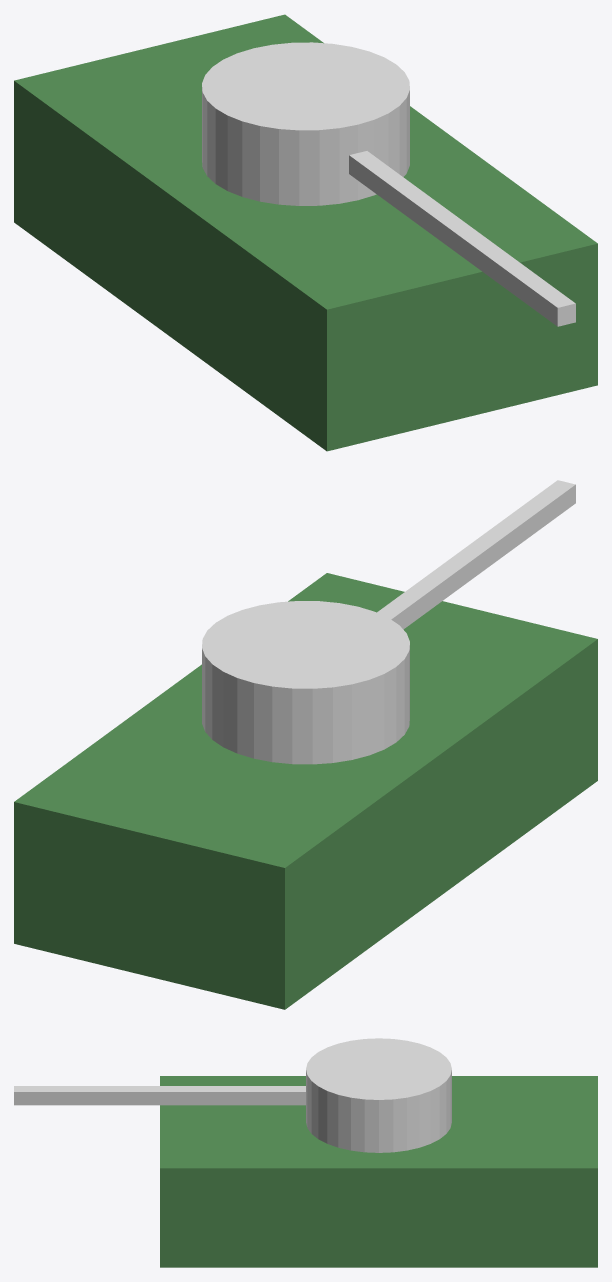
Rendered from blender_tank.glb.
The picture shows the model from 3 angles, top to bottom: view 1: azimuth 30°, elevation 25°; view 2: azimuth 150°, elevation 25°; view 3: azimuth 270°, elevation 25°; orthographic projection. The views are drawn at different scales.
Parts seen in each view (by area): view 1: scafo, torretta, canna; view 2: scafo, torretta, canna; view 3: scafo, torretta, canna.
Part boxes in pixels (<box>): scafo: <box>14,14,597,451</box>; torretta: <box>202,42,409,205</box>; canna: <box>349,151,575,326</box>; scafo: <box>14,573,597,1009</box>; torretta: <box>202,601,409,764</box>; canna: <box>377,480,575,629</box>; scafo: <box>160,1076,597,1267</box>; torretta: <box>306,1038,451,1152</box>; canna: <box>14,1086,305,1105</box>.
Size of the model in its own units: 3 by 2.3 by 8.
